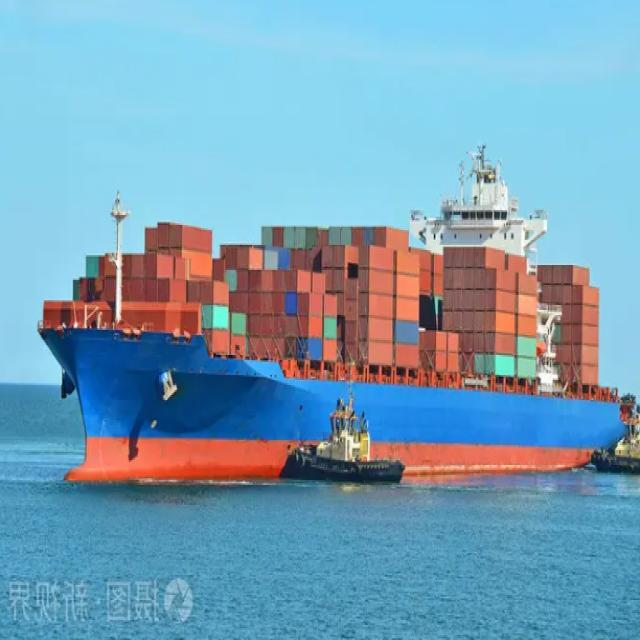cargoship: (41, 138, 630, 486)
houseboat: (292, 398, 404, 485), (594, 397, 640, 473)
